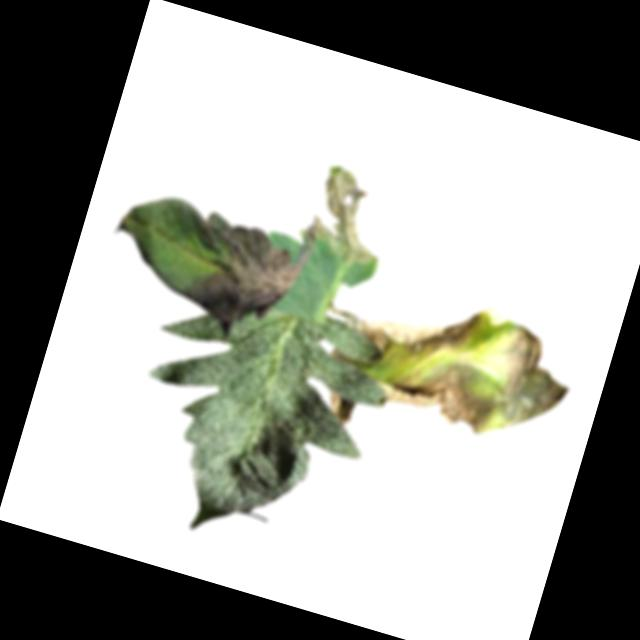Late_blight: (366, 278, 587, 458), (147, 203, 305, 348), (302, 163, 398, 271), (324, 301, 393, 352), (320, 388, 358, 427)
healthy: (107, 275, 403, 571)
